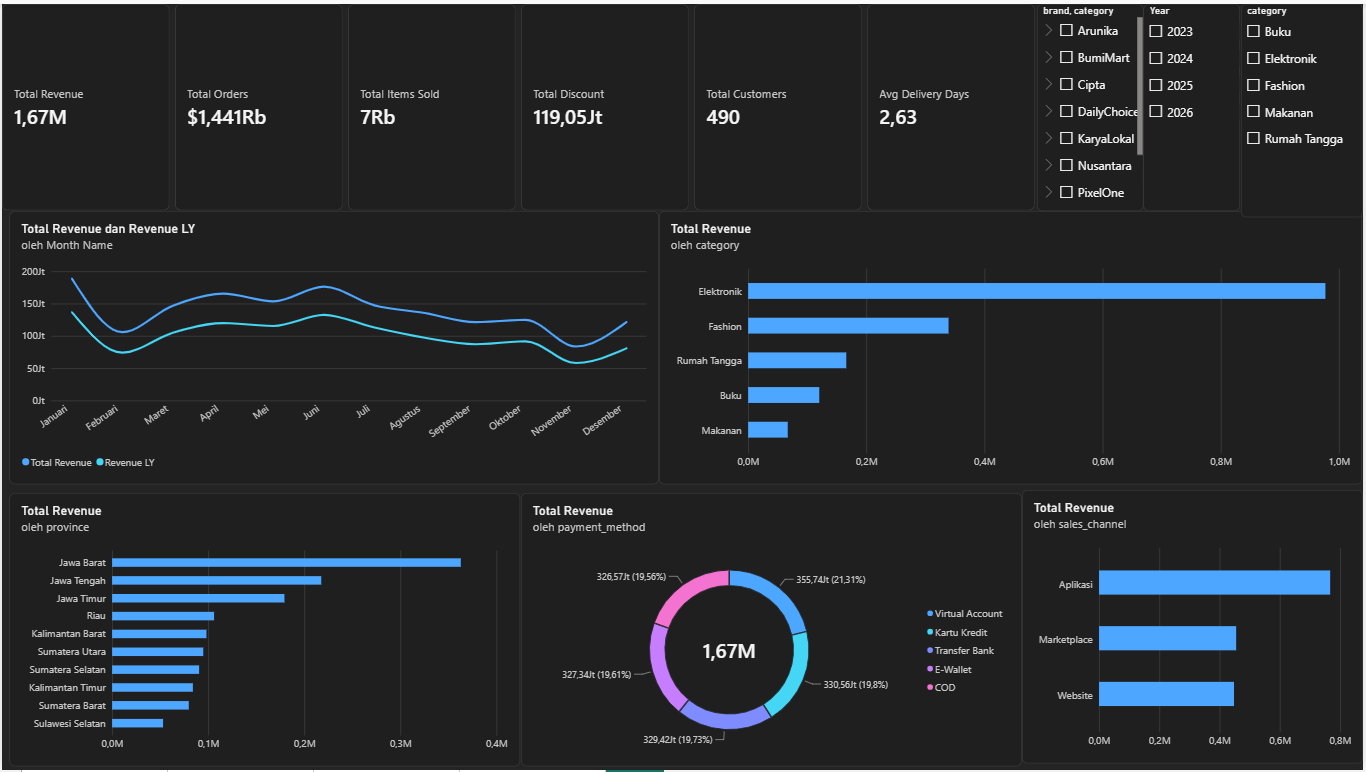

The page's visual inventory and layout, read from the dashboard file:
{"tool":"powerbi","page":{"name":"Halaman 1","canvas":[1920,1080],"ordinal":0},"visuals":[{"type":"lineChart","fields":{"Category":["dim_date.Month Name"],"Y":["fact_penjualan.Total Revenue","fact_penjualan.Revenue LY"]},"box":[11.3,292,915.6,385.5],"z":1},{"type":"barChart","fields":{"Category":["dim_product.category"],"Y":["fact_penjualan.Total Revenue"]},"box":[926.9,292,992.1,385.5],"z":2},{"type":"barChart","fields":{"Category":["dim_pelanggan.province"],"Y":["fact_penjualan.Total Revenue"]},"box":[11.3,688.8,720,385.5],"z":3},{"type":"donutChart","fields":{"Category":["fact_penjualan.payment_method"],"Y":["fact_penjualan.Total Revenue"]},"box":[731.3,688.8,705.8,385.5],"z":4},{"type":"barChart","fields":{"Category":["fact_penjualan.sales_channel"],"Y":["fact_penjualan.Total Revenue"]},"box":[1437.2,686,481.9,385.5],"z":5},{"type":"cardVisual","fields":{"Data":["fact_penjualan.Total Revenue","fact_penjualan.Total Orders","fact_penjualan.Total Items Sold","fact_penjualan.Total Discount","fact_penjualan.Total Customers","fact_penjualan.Avg Delivery Days"]},"box":[0,0,1459.9,292],"z":6},{"type":"slicer","fields":{"Values":["dim_product.brand","dim_product.category"]},"box":[1459.9,0,150.2,292],"z":7},{"type":"slicer","fields":{"Values":["dim_date.Year"]},"box":[1610.1,0,136.1,292],"z":8},{"type":"slicer","fields":{"Values":["dim_product.category"]},"box":[1746.2,0,172.9,300.5],"z":9}]}

Visuals, with their boxes in screenshot pixels (x1, y1, x2, y2), scaled from the page's 1920x1080 canvas onto the 1366x772 screenshot:
lineChart - dim_date.Month Name x fact_penjualan.Total Revenue: (8,209,659,484)
barChart - dim_product.category x fact_penjualan.Total Revenue: (659,209,1365,484)
barChart - dim_pelanggan.province x fact_penjualan.Total Revenue: (8,492,520,768)
donutChart - fact_penjualan.payment_method x fact_penjualan.Total Revenue: (520,492,1022,768)
barChart - fact_penjualan.sales_channel x fact_penjualan.Total Revenue: (1023,490,1365,766)
cardVisual - fact_penjualan.Total Revenue x fact_penjualan.Total Orders: (0,0,1039,209)
slicer - dim_product.brand x dim_product.category: (1039,0,1146,209)
slicer - dim_date.Year: (1146,0,1242,209)
slicer - dim_product.category: (1242,0,1365,215)
